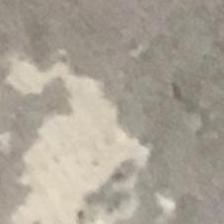Non_Crack: (13, 0, 223, 224)
